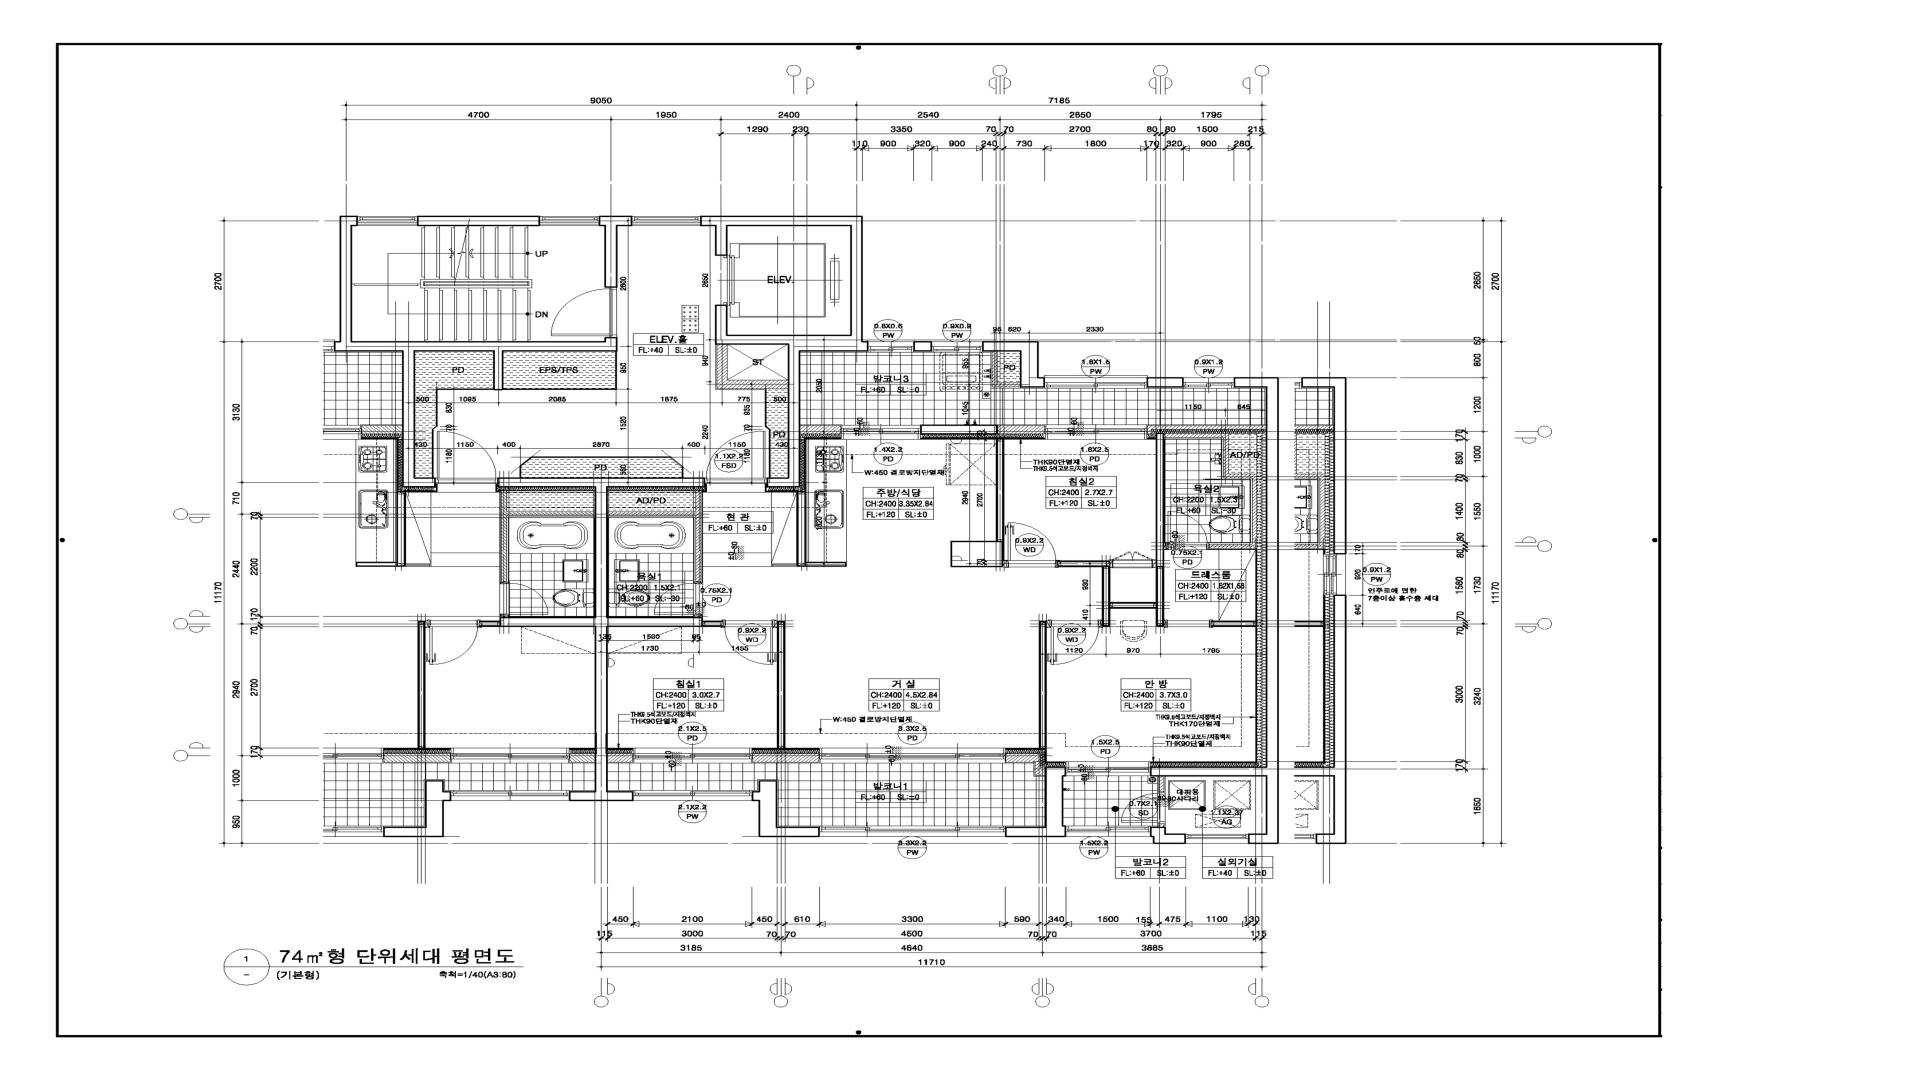door: (551, 287, 617, 338), (435, 431, 497, 484), (704, 431, 766, 484), (1004, 522, 1058, 567), (1047, 621, 1102, 665), (724, 621, 777, 665), (1164, 512, 1208, 550), (654, 583, 703, 616), (1121, 793, 1164, 824), (1164, 620, 1211, 628)
wall: (1266, 388, 1279, 844), (595, 487, 609, 802), (339, 342, 604, 352), (715, 335, 868, 352), (339, 216, 357, 342), (497, 477, 705, 488), (520, 456, 683, 468), (402, 352, 415, 487), (787, 352, 800, 477), (700, 216, 862, 225), (951, 541, 1005, 567), (1044, 766, 1067, 825), (851, 225, 862, 335), (1155, 433, 1164, 567), (1150, 766, 1266, 777), (777, 621, 786, 750), (417, 216, 539, 225), (1039, 621, 1047, 750), (609, 616, 703, 626), (996, 438, 1005, 541), (1147, 426, 1266, 434), (1019, 352, 1044, 388), (604, 227, 617, 287), (716, 380, 787, 390), (1005, 825, 1067, 837), (920, 425, 998, 434), (796, 491, 806, 567), (758, 800, 777, 837), (752, 753, 820, 762), (608, 512, 702, 518), (1150, 827, 1185, 844), (982, 342, 1039, 352), (694, 518, 703, 583), (431, 389, 438, 477), (1155, 567, 1164, 626), (752, 781, 778, 800), (1234, 377, 1279, 388), (1102, 567, 1110, 626), (1250, 480, 1257, 550), (765, 390, 770, 477), (777, 827, 820, 837), (1164, 433, 1229, 439), (716, 344, 728, 380), (493, 352, 504, 390), (715, 225, 728, 256), (715, 305, 728, 335), (1147, 377, 1184, 388), (998, 426, 1046, 434), (766, 477, 800, 488), (1110, 601, 1155, 609), (1058, 560, 1110, 567), (599, 216, 632, 227), (1005, 753, 1040, 762), (800, 426, 841, 434), (1208, 543, 1250, 550), (1222, 439, 1229, 480), (608, 791, 633, 802), (1211, 621, 1257, 626), (608, 753, 633, 762), (806, 562, 847, 567), (990, 352, 997, 382), (990, 382, 1021, 389), (914, 342, 932, 352), (1247, 833, 1266, 844), (415, 477, 436, 487), (604, 338, 617, 352), (1229, 473, 1257, 480), (504, 389, 617, 390), (696, 491, 703, 512), (1035, 762, 1044, 775), (703, 621, 724, 626), (1158, 777, 1164, 793), (771, 563, 796, 567), (438, 389, 493, 390), (616, 351, 617, 389), (1204, 479, 1222, 480), (1158, 824, 1164, 827), (520, 465, 521, 477), (682, 467, 683, 477)
window: (819, 748, 1005, 764), (820, 825, 1005, 837), (633, 748, 752, 764), (1046, 425, 1147, 439), (633, 790, 752, 802), (1044, 376, 1147, 388), (1067, 762, 1150, 777), (841, 425, 920, 439), (1065, 825, 1150, 837), (632, 216, 700, 225), (1185, 835, 1247, 844), (539, 216, 599, 225), (357, 216, 417, 225), (932, 342, 982, 352), (1184, 377, 1234, 388), (868, 342, 914, 352)
